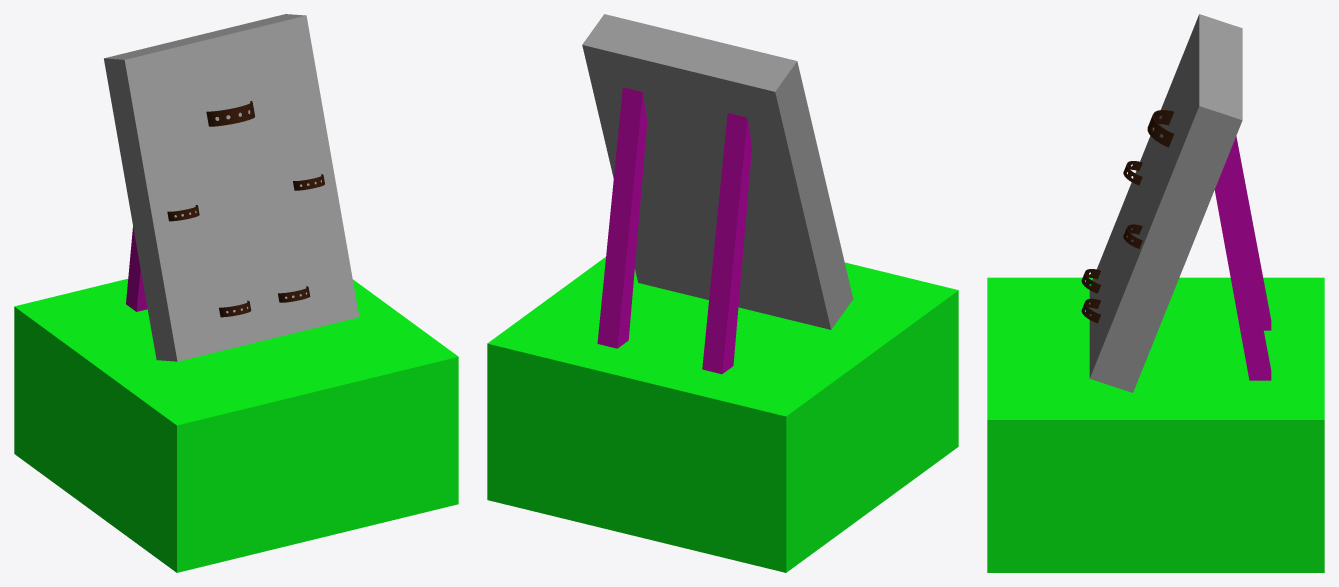
Rendered from MetalBed.fbx.
3 renders of one model, left to right at view 1: azimuth 30°, elevation 25°; view 2: azimuth 150°, elevation 25°; view 3: azimuth 270°, elevation 25°, orthographic. The views are drawn at different scales.
Parts seen in each view (by area): view 1: Floor_low (×3), Bed, Beam001, Constraints000; view 2: Floor_low (×4), Bed, Beam000, Beam001; view 3: Floor_low (×4), Bed, Beam000, Beam001, Constraints000.
Part boxes in pixels (x1=…): Floor_low (×3): x1=14, y1=278, x2=458, y2=572; Bed: x1=104, y1=14, x2=359, y2=361; Beam001: x1=126, y1=226, x2=147, y2=311; Constraints000: x1=206, y1=101, x2=254, y2=126; Floor_low (×4): x1=487, y1=257, x2=958, y2=572; Bed: x1=582, y1=14, x2=853, y2=329; Beam000: x1=597, y1=87, x2=647, y2=348; Beam001: x1=702, y1=113, x2=751, y2=374; Floor_low (×4): x1=987, y1=277, x2=1324, y2=572; Bed: x1=1089, y1=14, x2=1242, y2=392; Beam000: x1=1214, y1=152, x2=1271, y2=380; Beam001: x1=1230, y1=136, x2=1271, y2=330; Constraints000: x1=1147, y1=110, x2=1173, y2=147.
Bounding box in the file's own units: 79 × 114 × 79.
